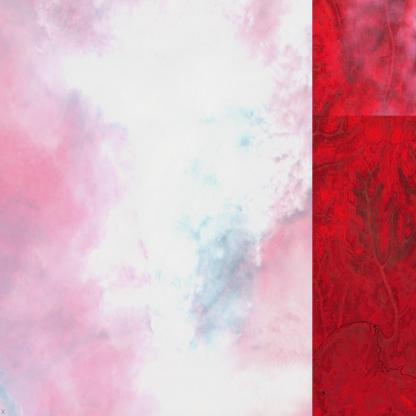fire: (140, 32, 279, 386)
